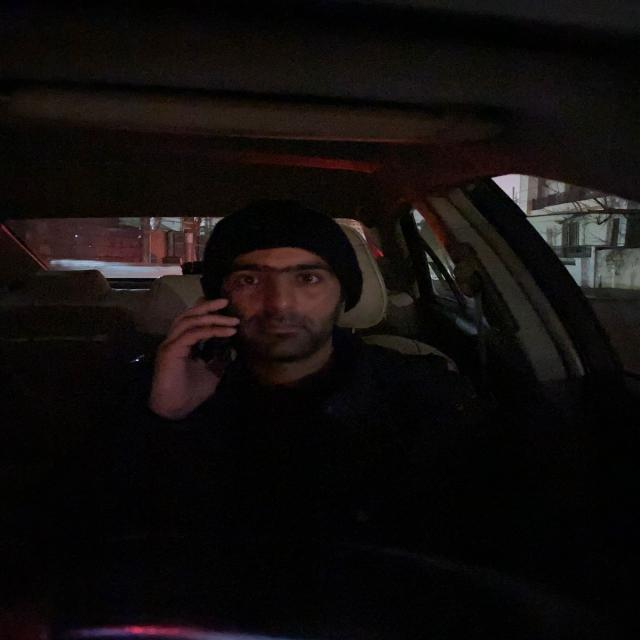person: (187, 192, 373, 373)
